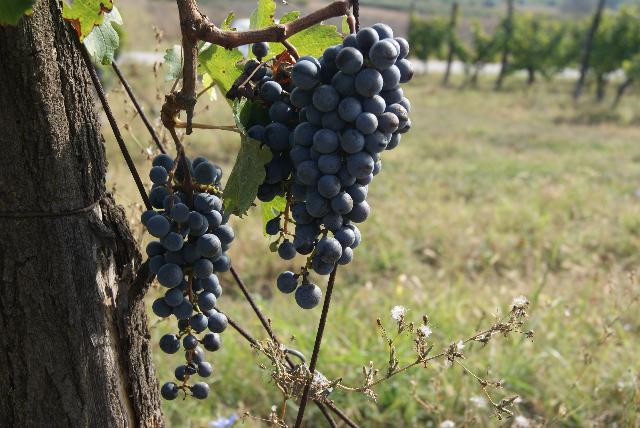grapes: (290, 24, 414, 275), (141, 154, 234, 401), (228, 41, 315, 260), (295, 282, 321, 309)
